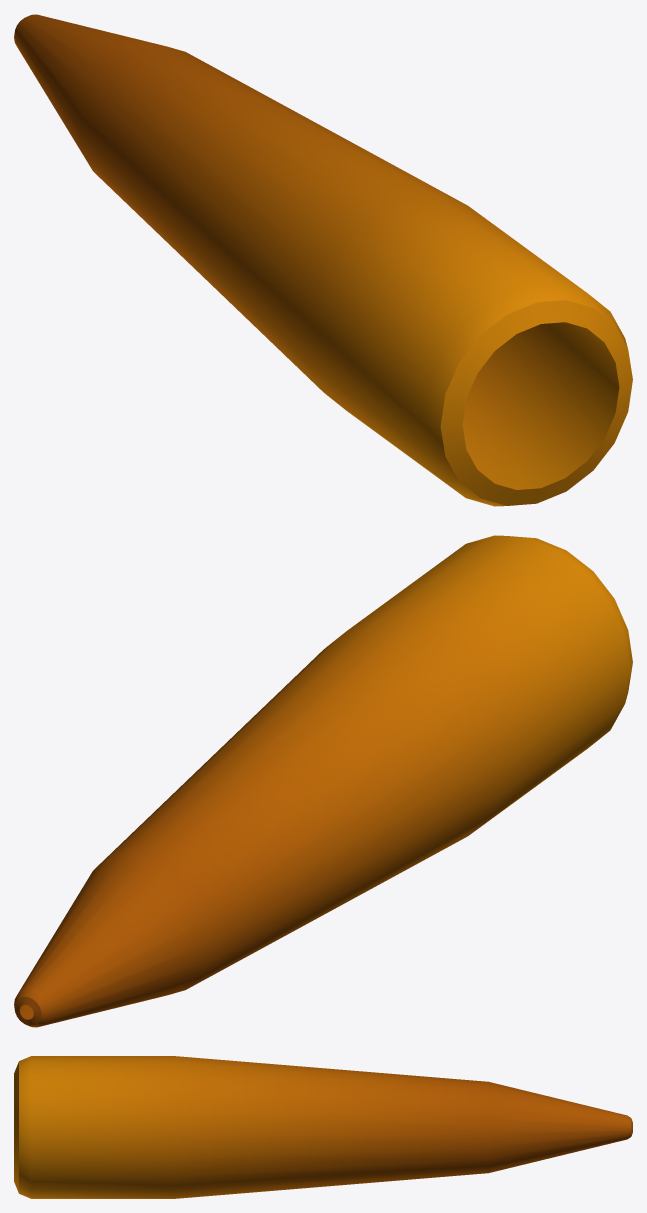
File: carrot_1 1.fbx
The picture shows the model from 3 angles, top to bottom: view 1: azimuth 30°, elevation 25°; view 2: azimuth 150°, elevation 25°; view 3: azimuth 270°, elevation 25°; orthographic projection. The views are drawn at different scales.
Parts seen in each view (by area): view 1: carrot; view 2: carrot; view 3: carrot.
Part boxes in pixels (<box>): carrot: <box>14,14,632,506</box>; carrot: <box>14,535,632,1027</box>; carrot: <box>14,1056,632,1198</box>.
Bounding box in the file's own units: 387 × 89.92 × 89.92.
